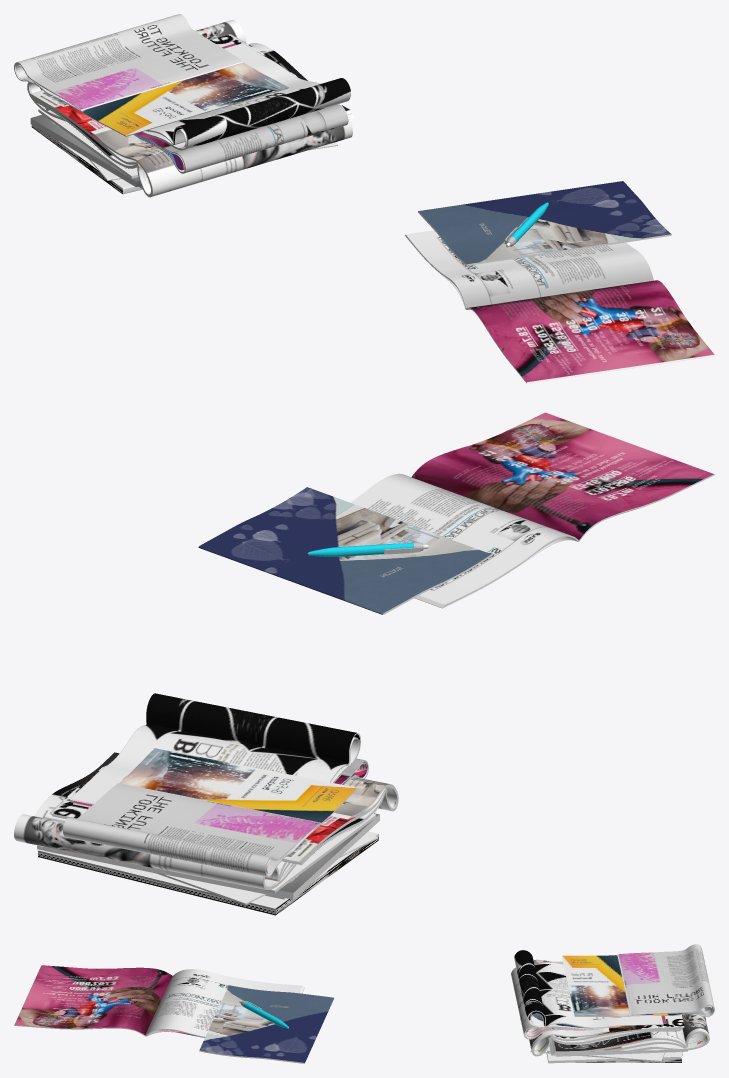
File: Magazines.fbx
3 renders of one model, top to bottom at view 1: azimuth 30°, elevation 25°; view 2: azimuth 150°, elevation 25°; view 3: azimuth 270°, elevation 25°, orthographic. The views are drawn at different scales.
Visible parts, largest first — view 1: Journal_S_037_jj_magazine cover_4_4_0, Journal_S_040_jj_magazine cover_4_7_0, Journal_M_343_notes w_0, Journal_S_038_jj_magazine cover_4_1_0, Journal_open_two_015_jj_magazine cover_1_005_0, Journal_S_039_jj_magazine cover_4_3_0, Journal_open_two_014_jj_magazine cover_1_005_0, Journal_open_two_015_jj_pages _ 1_0, Journal_S_040_jj_pages _ 2_0, Journal_S_037_jj_pages _ 2_0, Journal_L_4_015_jj_pages _ 1_0, Journal_L_4_015_jj_magazine cover_2_004_0 (+1 smaller); view 2: Journal_S_037_jj_magazine cover_4_4_0, Journal_S_040_jj_magazine cover_4_7_0, Journal_M_343_notes w_0, Journal_S_038_jj_magazine cover_4_1_0, Journal_open_two_014_jj_magazine cover_1_005_0, Journal_open_two_015_jj_magazine cover_1_005_0, Journal_L_1_014_jj_pages _ 1_0, Journal_L_4_015_jj_pages _ 1_0, Journal_L_1_014_jj_magazine cover_2_001_0, Journal_open_two_015_jj_pages _ 1_0, Journal_L_3_017_jj_magazine cover_2_003_0, ruchka_pen color 03_0 (+1 smaller); view 3: Journal_S_037_jj_magazine cover_4_4_0, Journal_S_040_jj_magazine cover_4_7_0, Journal_M_343_notes w_0, Journal_S_038_jj_magazine cover_4_1_0, Journal_open_two_014_jj_magazine cover_1_005_0, Journal_open_two_015_jj_magazine cover_1_005_0, Journal_open_two_014_jj_pages _ 1_0, Journal_open_two_015_jj_pages _ 1_0, Journal_S_039_jj_magazine cover_4_3_0, Journal_S_037_jj_pages _ 2_0, Journal_S_040_jj_pages _ 2_0, Journal_L_3_017_jj_magazine cover_2_003_0 (+6 smaller).
Part boxes in pixels (x1,y1,x2,y2): Journal_S_037_jj_magazine cover_4_4_0: (406,230,714,382); Journal_S_040_jj_magazine cover_4_7_0: (15,14,288,135); Journal_M_343_notes w_0: (418,181,671,264); Journal_S_038_jj_magazine cover_4_1_0: (143,43,350,149); Journal_open_two_015_jj_magazine cover_1_005_0: (31,34,352,196); Journal_S_039_jj_magazine cover_4_3_0: (133,43,348,172); Journal_open_two_014_jj_magazine cover_1_005_0: (29,20,351,116); Journal_open_two_015_jj_pages _ 1_0: (31,72,294,197); Journal_S_040_jj_pages _ 2_0: (14,61,288,136); Journal_S_037_jj_pages _ 2_0: (405,235,714,383); Journal_L_4_015_jj_pages _ 1_0: (30,118,136,186); Journal_L_4_015_jj_magazine cover_2_004_0: (31,114,140,186); Journal_S_037_jj_magazine cover_4_4_0: (350,412,713,607); Journal_S_040_jj_magazine cover_4_7_0: (63,748,356,876); Journal_M_343_notes w_0: (198,487,490,614); Journal_S_038_jj_magazine cover_4_1_0: (70,693,360,803); Journal_open_two_014_jj_magazine cover_1_005_0: (14,752,294,889); Journal_open_two_015_jj_magazine cover_1_005_0: (50,765,397,861); Journal_L_1_014_jj_pages _ 1_0: (38,834,378,915); Journal_L_4_015_jj_pages _ 1_0: (44,814,379,899); Journal_L_1_014_jj_magazine cover_2_001_0: (38,831,377,908); Journal_open_two_015_jj_pages _ 1_0: (50,767,398,864); Journal_L_3_017_jj_magazine cover_2_003_0: (165,833,377,903); ruchka_pen color 03_0: (308,542,413,556); Journal_S_037_jj_magazine cover_4_4_0: (14,965,304,1037); Journal_S_040_jj_magazine cover_4_7_0: (561,944,714,1016); Journal_M_343_notes w_0: (199,985,334,1062); Journal_S_038_jj_magazine cover_4_1_0: (514,950,662,1029); Journal_open_two_014_jj_magazine cover_1_005_0: (550,1014,709,1053); Journal_open_two_015_jj_magazine cover_1_005_0: (529,959,684,1054); Journal_open_two_014_jj_pages _ 1_0: (549,1031,709,1055); Journal_open_two_015_jj_pages _ 1_0: (531,1027,683,1056); Journal_S_039_jj_magazine cover_4_3_0: (511,967,665,1038); Journal_S_037_jj_pages _ 2_0: (14,967,304,1037); Journal_S_040_jj_pages _ 2_0: (574,954,714,1016); Journal_L_3_017_jj_magazine cover_2_003_0: (531,1050,664,1060).
Bounding box in the file's own units: 5361 × 1073 × 13199.
Materials: 26 (9 with a texture image).
